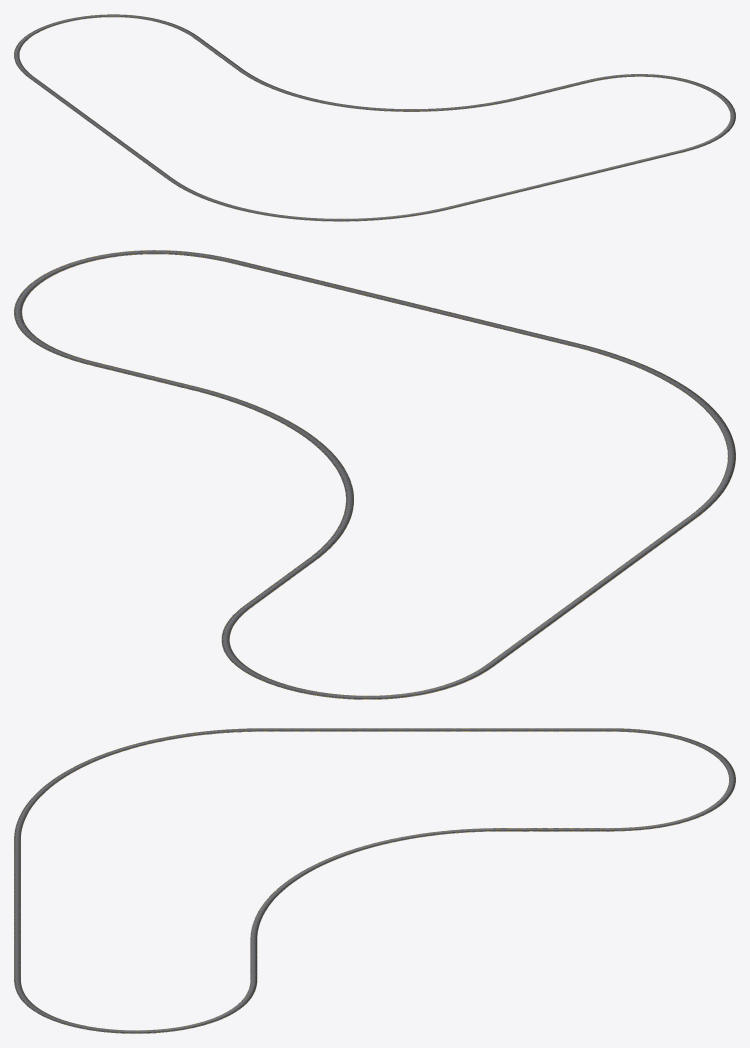
Rendered from new road.fbx.
The picture shows the model from 3 angles, top to bottom: view 1: azimuth 30°, elevation 25°; view 2: azimuth 150°, elevation 25°; view 3: azimuth 270°, elevation 25°; orthographic projection. The views are drawn at different scales.
Bounding box in the file's own units: 611 × 0.5016 × 611.
Materials: 1 (1 with a texture image).
